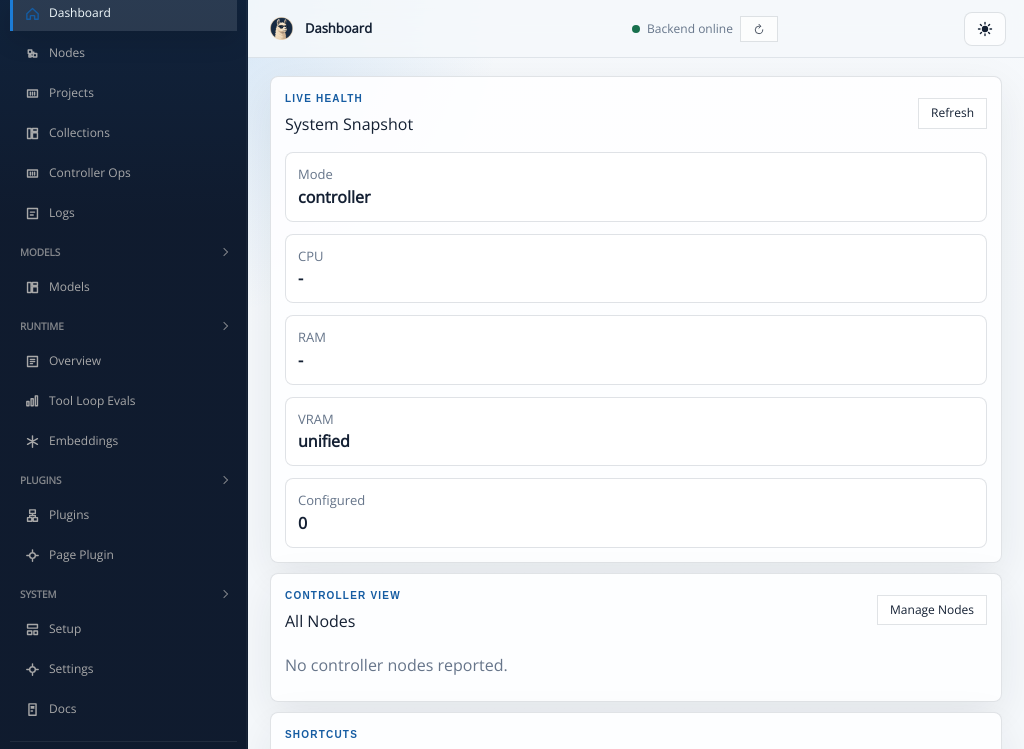
Scenario: renders plugin navigation from frontend pages
(page scrolled)
Click the link "Page Plugin" at {"x": 69, "y": 555}, box 24,546 -> 114,564
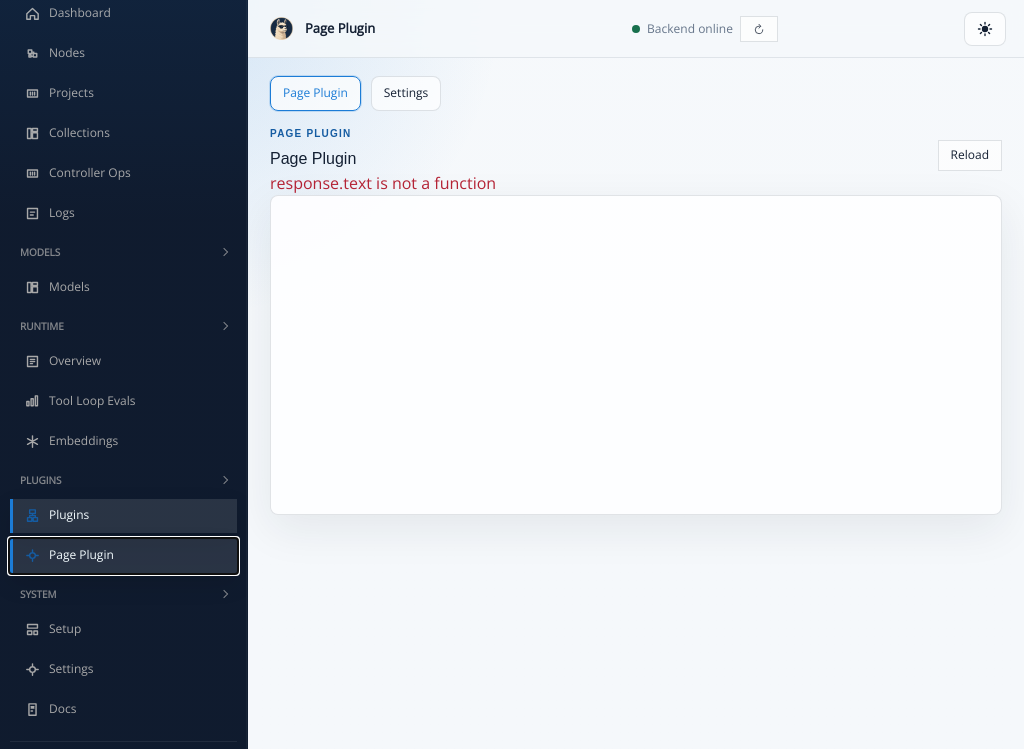
Check: the link "Settings" below "Backend online" is shown, box 371,76 -> 441,111
